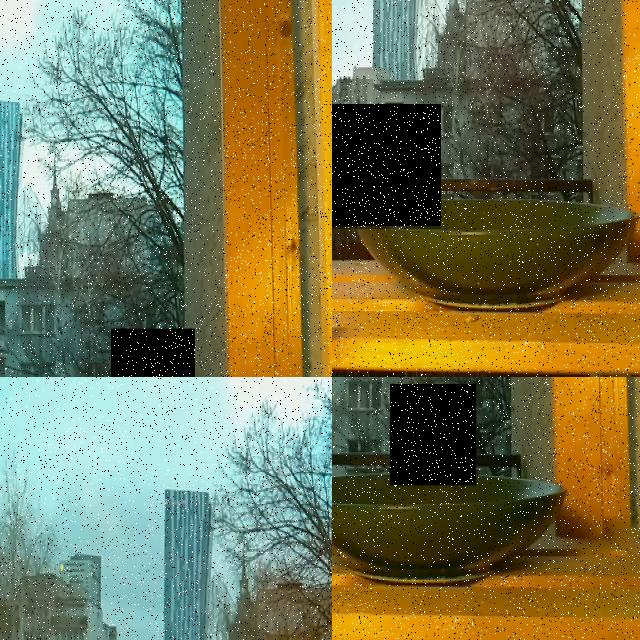Modraszka: (111, 328, 195, 377)
Wrobel: (332, 104, 441, 228), (390, 384, 476, 485)
